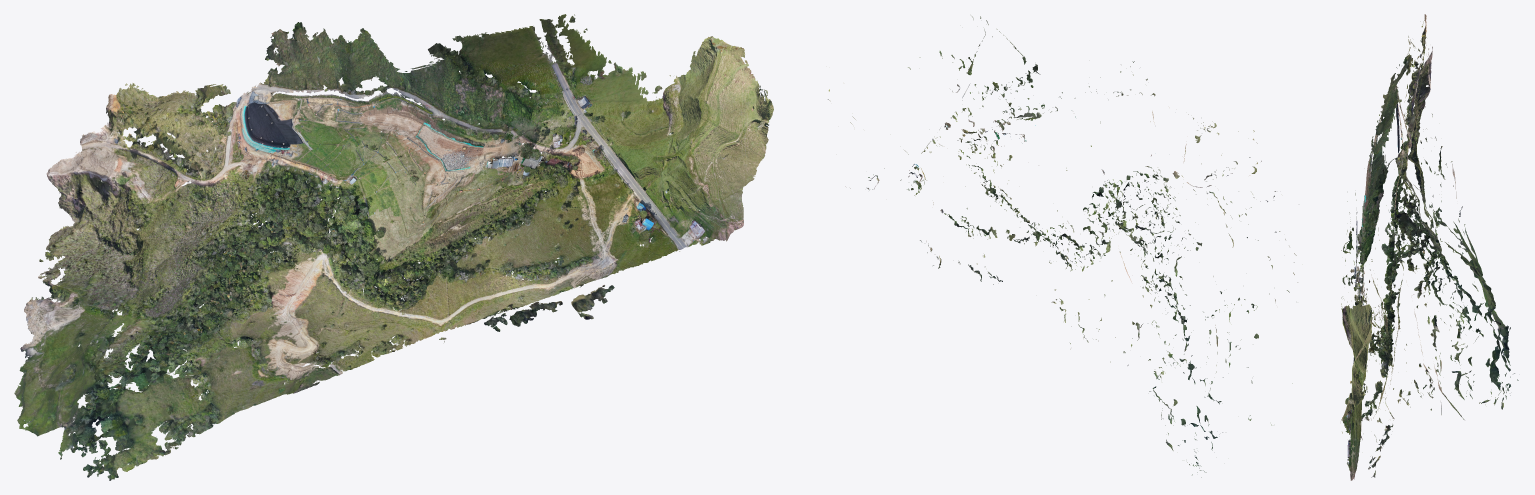
Rendered from modelo.glb.
The picture shows the model from 3 angles, left to right: view 1: azimuth 30°, elevation 25°; view 2: azimuth 150°, elevation 25°; view 3: azimuth 270°, elevation 25°; orthographic projection. The views are drawn at different scales.
Bounding box in the file's own units: 688 × 441 × 179.
41 materials, 41 textured.
